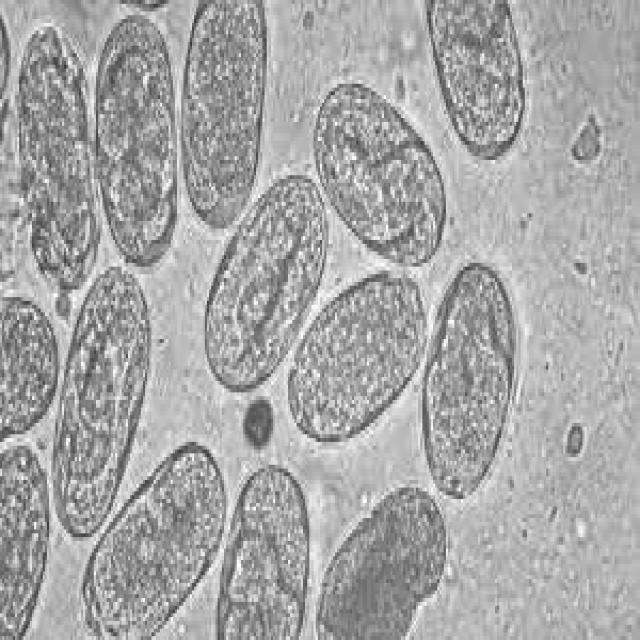Ancylostoma Spp: (200, 164, 338, 404), (48, 257, 157, 547), (75, 434, 228, 636), (310, 72, 449, 278), (281, 263, 432, 449), (14, 23, 108, 301), (419, 255, 522, 507), (314, 472, 454, 636), (94, 12, 179, 278), (179, 0, 267, 248), (213, 457, 318, 636), (419, 0, 530, 168), (0, 430, 56, 637), (0, 288, 64, 448)
